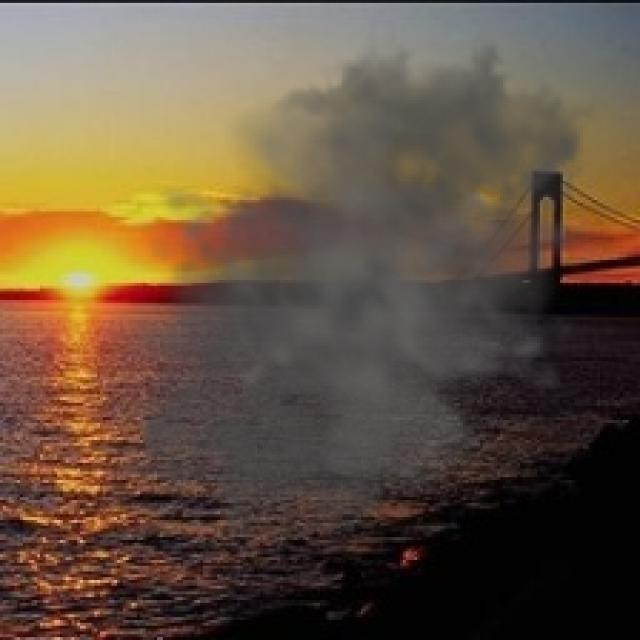smoke: (100, 6, 623, 571)
